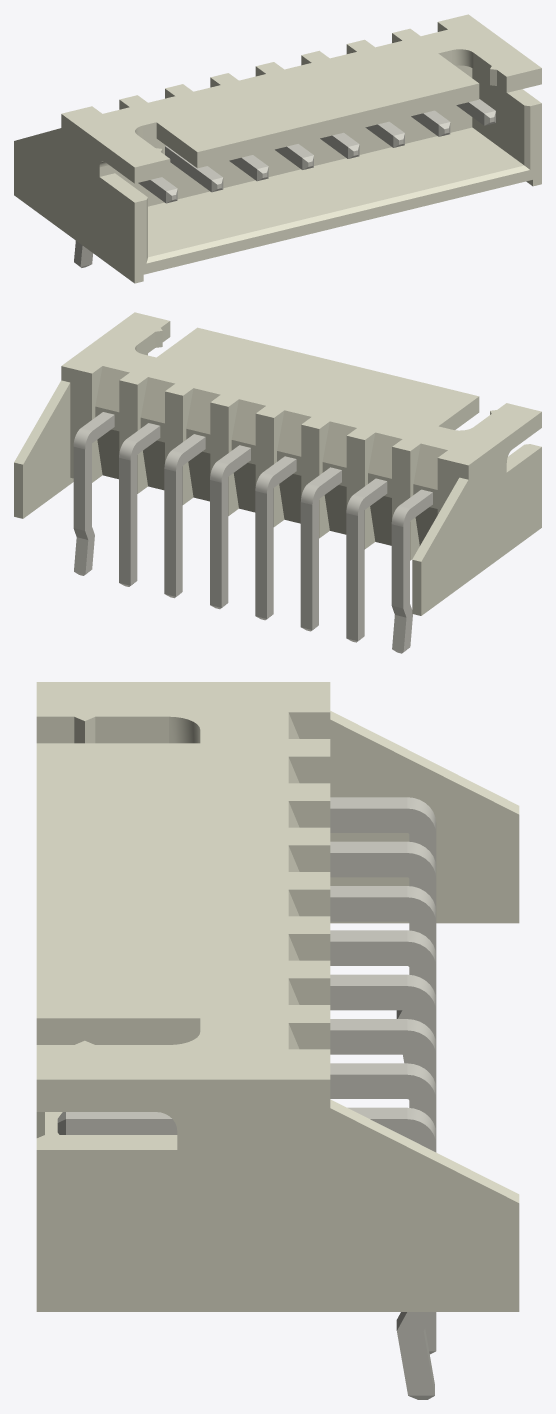
File: kc-jst_xh_s8b-xh-a_1x08_p2.50mm_horizontal.glb
The picture shows the model from 3 angles, top to bottom: view 1: azimuth 30°, elevation 25°; view 2: azimuth 150°, elevation 25°; view 3: azimuth 270°, elevation 25°; orthographic projection. The views are drawn at different scales.
Parts seen in each view (by area): view 1: 0.75_0.75_0.5833333333333334_0, 0.6666666666666666_0.6666666666666666_0.5833333333333334_0.8; view 2: 0.75_0.75_0.5833333333333334_0, 0.6666666666666666_0.6666666666666666_0.5833333333333334_0.8; view 3: 0.75_0.75_0.5833333333333334_0, 0.6666666666666666_0.6666666666666666_0.5833333333333334_0.8.
Part boxes in pixels (x1,y1,x2,y2): 0.75_0.75_0.5833333333333334_0: [14, 14, 541, 283]; 0.6666666666666666_0.6666666666666666_0.5833333333333334_0.8: [74, 99, 495, 267]; 0.75_0.75_0.5833333333333334_0: [14, 312, 541, 615]; 0.6666666666666666_0.6666666666666666_0.5833333333333334_0.8: [73, 412, 432, 653]; 0.75_0.75_0.5833333333333334_0: [36, 682, 519, 1311]; 0.6666666666666666_0.6666666666666666_0.5833333333333334_0.8: [57, 797, 436, 1399].
Bounding box in the file's own units: 2.24 × 0.9501 × 1.15.
